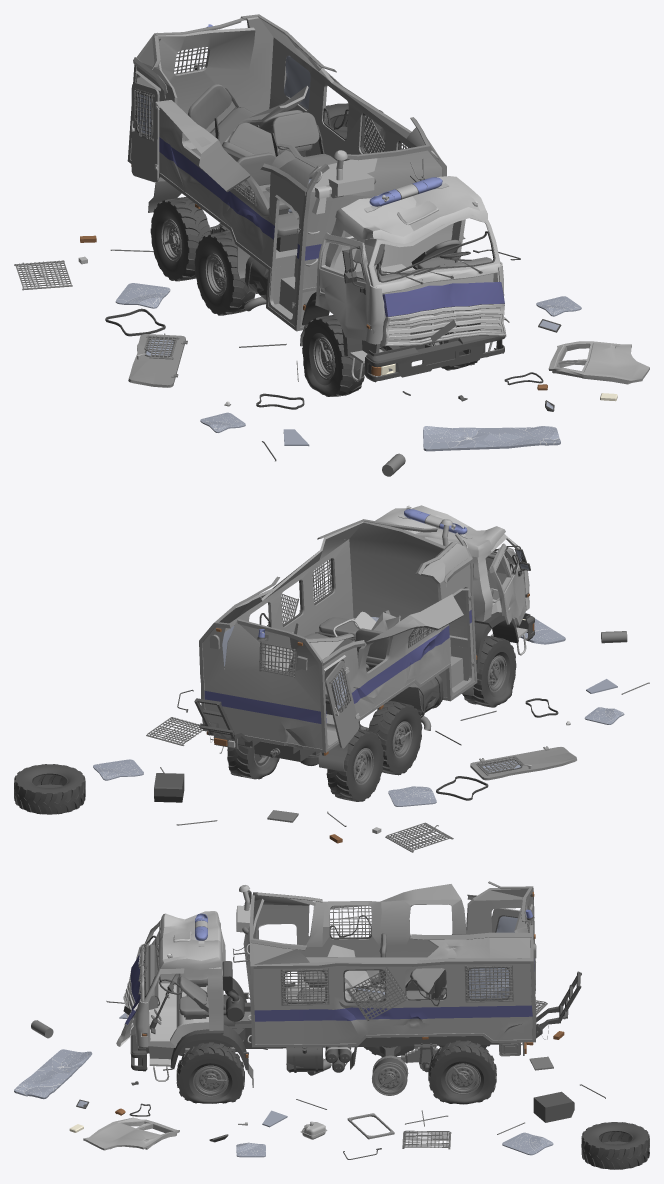
The model's file is Broken truck_02.fbx.
3 renders of one model, top to bottom at view 1: azimuth 30°, elevation 25°; view 2: azimuth 150°, elevation 25°; view 3: azimuth 270°, elevation 25°, orthographic. The views are drawn at different scales.
Visible parts, largest first — view 1: Broken truck; view 2: Broken truck; view 3: Broken truck.
Part boxes in pixels (bbox=[...]): Broken truck: bbox=[14, 14, 649, 476]; Broken truck: bbox=[14, 505, 649, 852]; Broken truck: bbox=[14, 881, 649, 1169].
Size of the model in its own units: 464 by 216 by 692.
